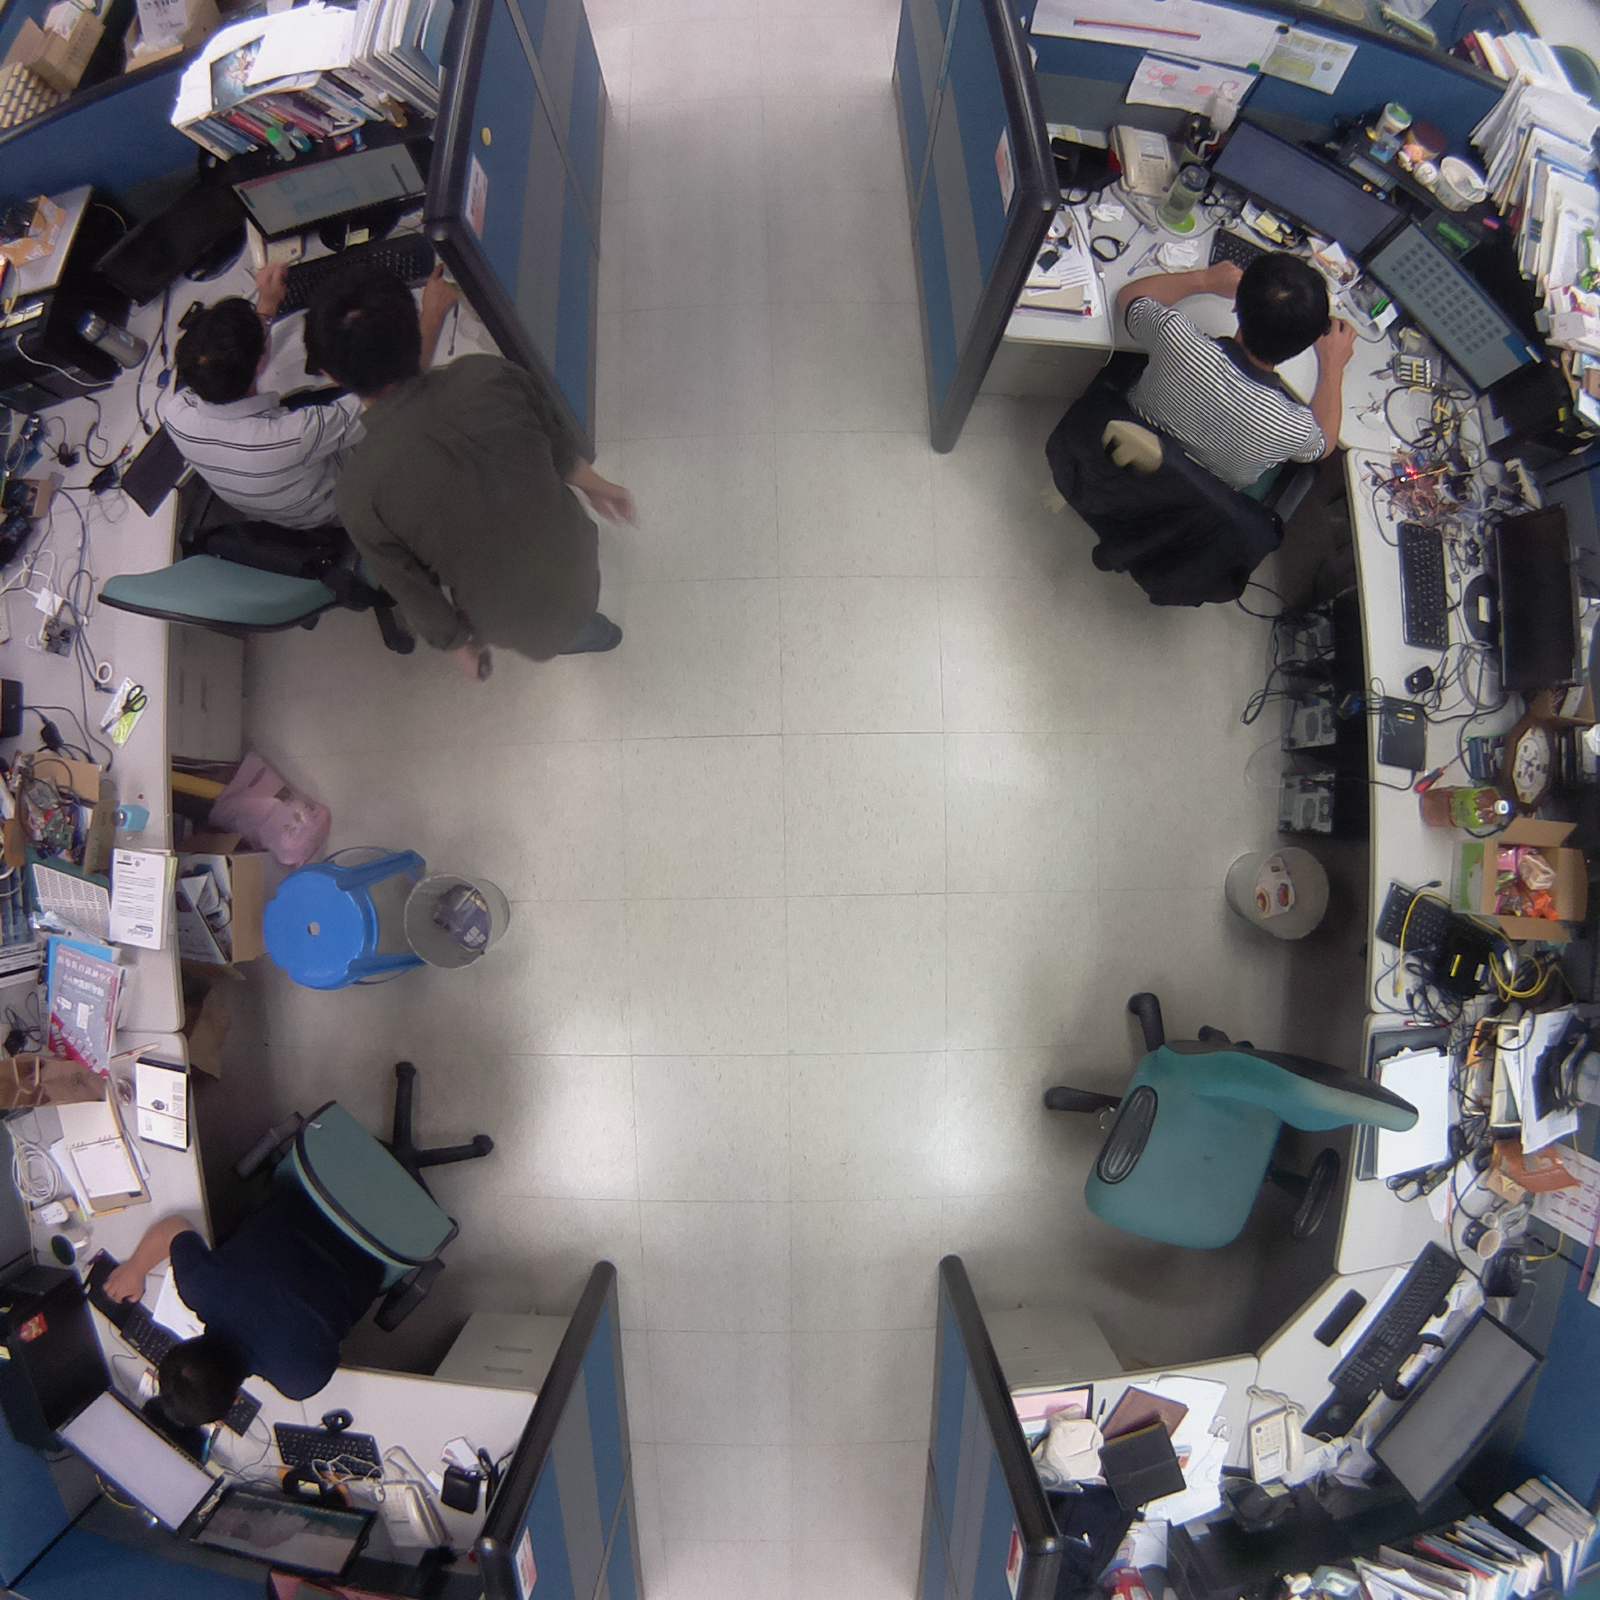chair: (1017, 975, 1432, 1268)
head: (299, 267, 433, 395), (1230, 249, 1337, 365), (170, 290, 276, 405), (151, 1328, 253, 1428)
sitting: (104, 1034, 524, 1432), (1037, 238, 1358, 619), (81, 274, 365, 665)
standing: (281, 271, 644, 687)
